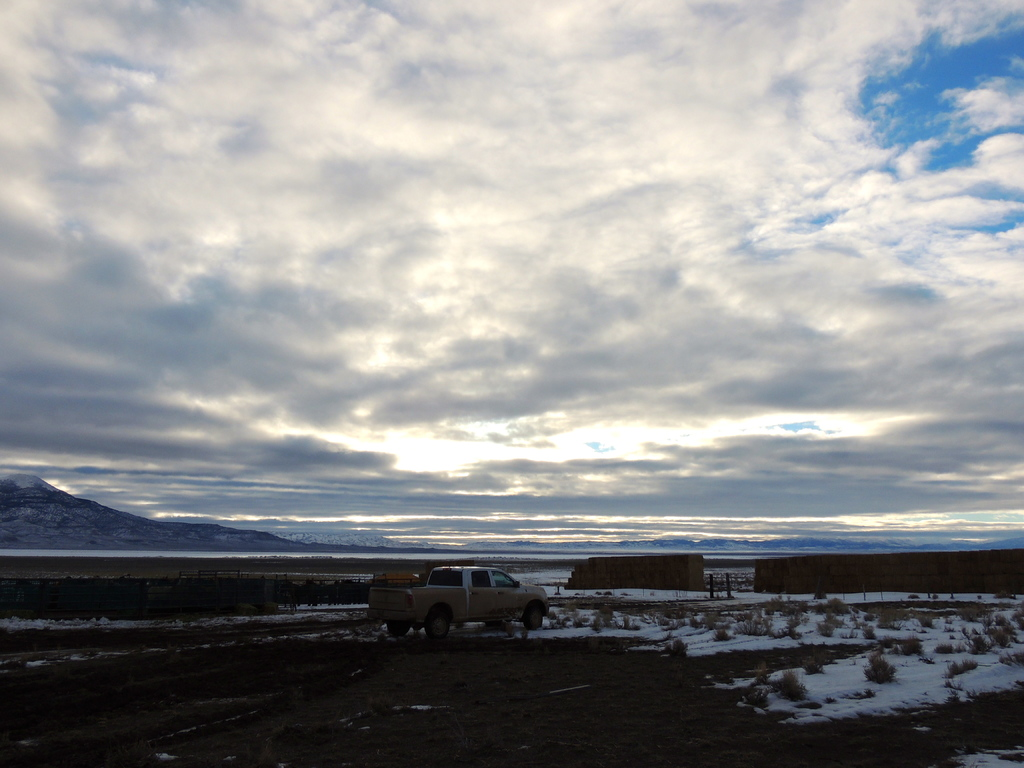Car: (384, 573, 558, 647)
